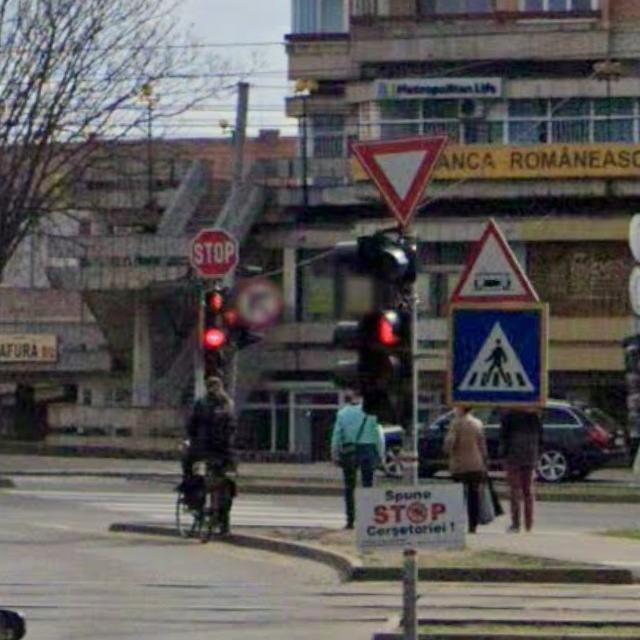info_crosswalk: (449, 307, 547, 408)
prio_give_way: (352, 135, 448, 233)
prio_stop: (192, 230, 237, 277)
